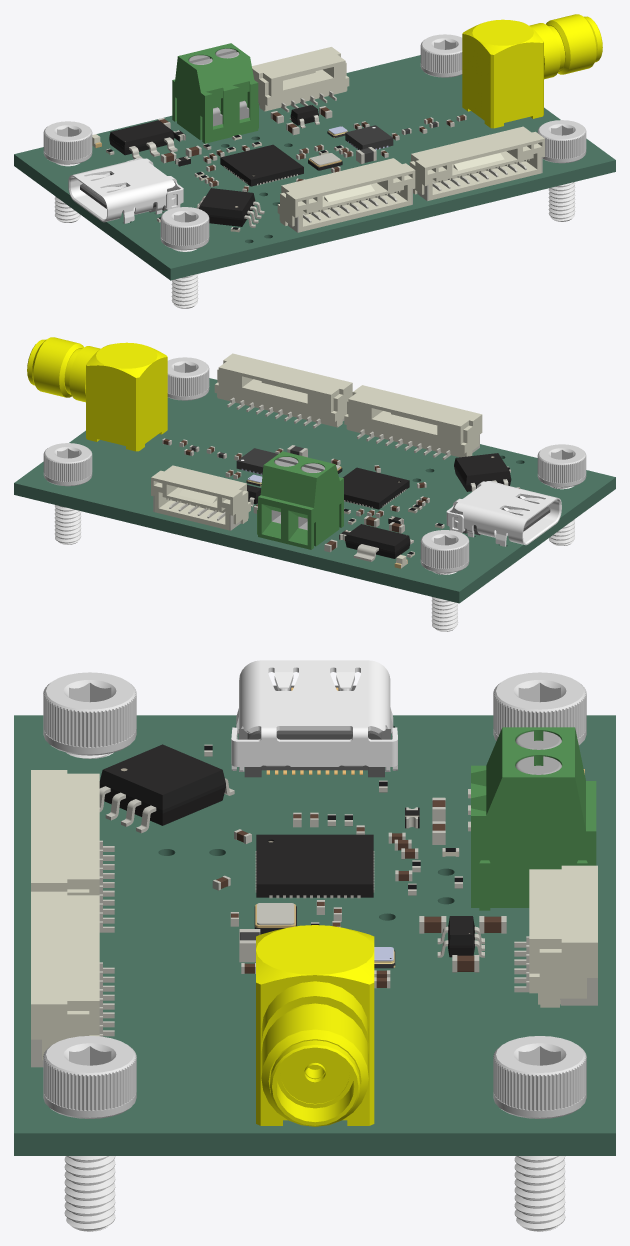
File: PHOBOS_Control_Digital.glb
3 views of the same model, one above another, from view 1: azimuth 30°, elevation 25°; view 2: azimuth 150°, elevation 25°; view 3: azimuth 270°, elevation 25° (orthographic). The views are drawn at different scales.
Parts seen in each view (by area): view 1: =>[0:1:1:57], =>[0:1:1:17] (×2), SMA-J-P-GF-RA-SM1, =>[0:1:1:25] (×4), NAUO1, NONE, =>[0:1:1:42], =>[0:1:1:33], =>[0:1:1:31], =>[0:1:1:23], =>[0:1:1:21], =>[0:1:1:38] (+1 smaller); view 2: =>[0:1:1:57], =>[0:1:1:17] (×2), SMA-J-P-GF-RA-SM1, =>[0:1:1:25] (×4), NAUO1, NONE, =>[0:1:1:42], =>[0:1:1:33], =>[0:1:1:23], =>[0:1:1:31], =>[0:1:1:21]; view 3: =>[0:1:1:57], =>[0:1:1:25] (×4), SMA-J-P-GF-RA-SM1, =>[0:1:1:17] (×2), NONE, NAUO1, =>[0:1:1:42], =>[0:1:1:33], =>[0:1:1:31], =>[0:1:1:38], =>[0:1:1:19].
Boxes of the visible parts, <box> form: =>[0:1:1:57]: <box>14,55,615,280</box>; =>[0:1:1:17] (×2): <box>277,126,544,232</box>; SMA-J-P-GF-RA-SM1: <box>462,14,602,128</box>; =>[0:1:1:25] (×4): <box>43,34,586,308</box>; NAUO1: <box>172,43,258,143</box>; NONE: <box>68,158,183,223</box>; =>[0:1:1:42]: <box>252,47,349,112</box>; =>[0:1:1:33]: <box>220,144,303,186</box>; =>[0:1:1:31]: <box>196,188,264,227</box>; =>[0:1:1:23]: <box>109,120,177,159</box>; =>[0:1:1:21]: <box>345,125,393,149</box>; =>[0:1:1:38]: <box>289,105,319,128</box>; =>[0:1:1:57]: <box>14,378,615,603</box>; =>[0:1:1:17] (×2): <box>214,353,482,459</box>; SMA-J-P-GF-RA-SM1: <box>27,337,167,451</box>; =>[0:1:1:25] (×4): <box>43,357,586,631</box>; NAUO1: <box>257,451,343,549</box>; NONE: <box>446,481,561,546</box>; =>[0:1:1:42]: <box>151,465,250,530</box>; =>[0:1:1:33]: <box>343,467,409,509</box>; =>[0:1:1:23]: <box>345,524,413,561</box>; =>[0:1:1:31]: <box>454,453,511,491</box>; =>[0:1:1:21]: <box>236,448,277,474</box>; =>[0:1:1:57]: <box>14,715,615,1155</box>; =>[0:1:1:25] (×4): <box>43,672,586,1231</box>; SMA-J-P-GF-RA-SM1: <box>256,925,374,1126</box>; =>[0:1:1:17] (×2): <box>31,770,114,1067</box>; NONE: <box>231,660,397,777</box>; NAUO1: <box>471,727,596,910</box>; =>[0:1:1:42]: <box>514,865,597,1007</box>; =>[0:1:1:33]: <box>255,834,374,898</box>; =>[0:1:1:31]: <box>99,744,234,833</box>; =>[0:1:1:38]: <box>437,916,484,957</box>; =>[0:1:1:19]: <box>254,903,296,934</box>.
Size of the model in its own units: 0.0661 by 0.0178 by 0.0356.
